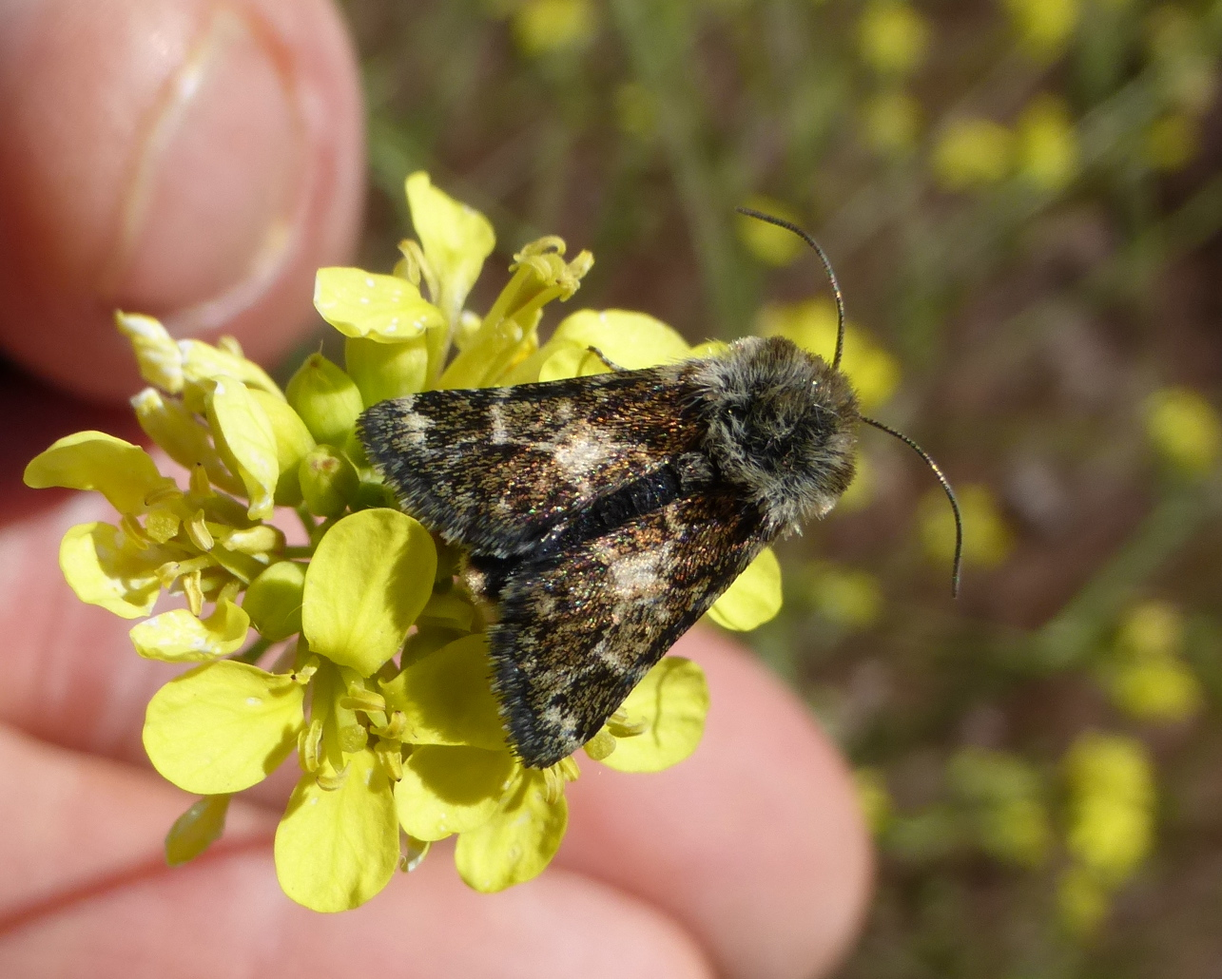Noctuidae: (352, 205, 965, 772)
